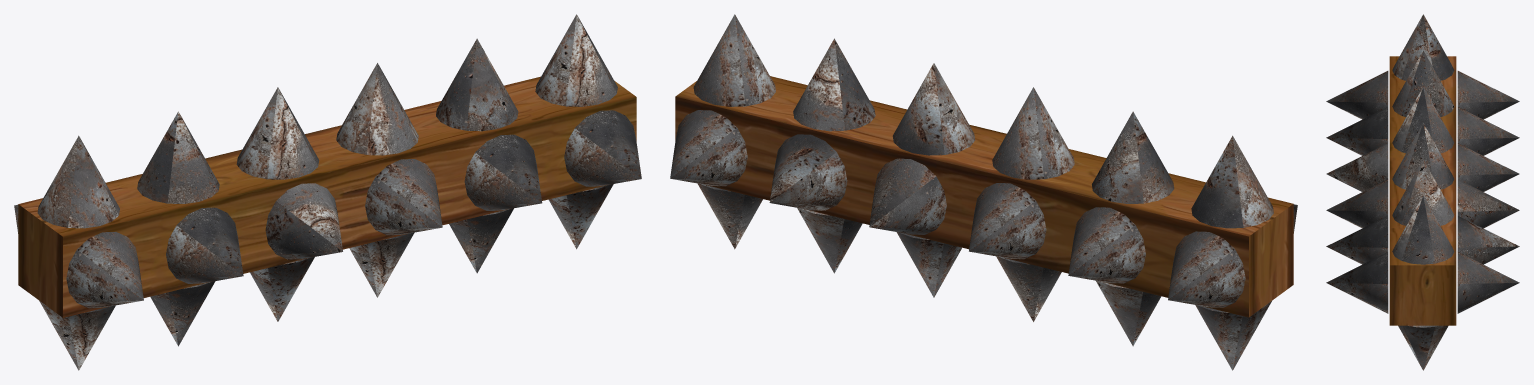
The model's file is spike01.glb.
The picture shows the model from 3 angles, left to right: view 1: azimuth 30°, elevation 25°; view 2: azimuth 150°, elevation 25°; view 3: azimuth 270°, elevation 25°; orthographic projection. The views are drawn at different scales.
Visible parts, largest first — view 1: Spikes; view 2: Spikes; view 3: Spikes.
Boxes of the visible parts, x1,y1,x2,y2 form: Spikes: (14, 14, 641, 370); Spikes: (670, 14, 1297, 370); Spikes: (1326, 14, 1519, 370).
Bounding box in the file's own units: 5.64 × 2.21 × 2.21.
Materials: 2 (2 with a texture image).
